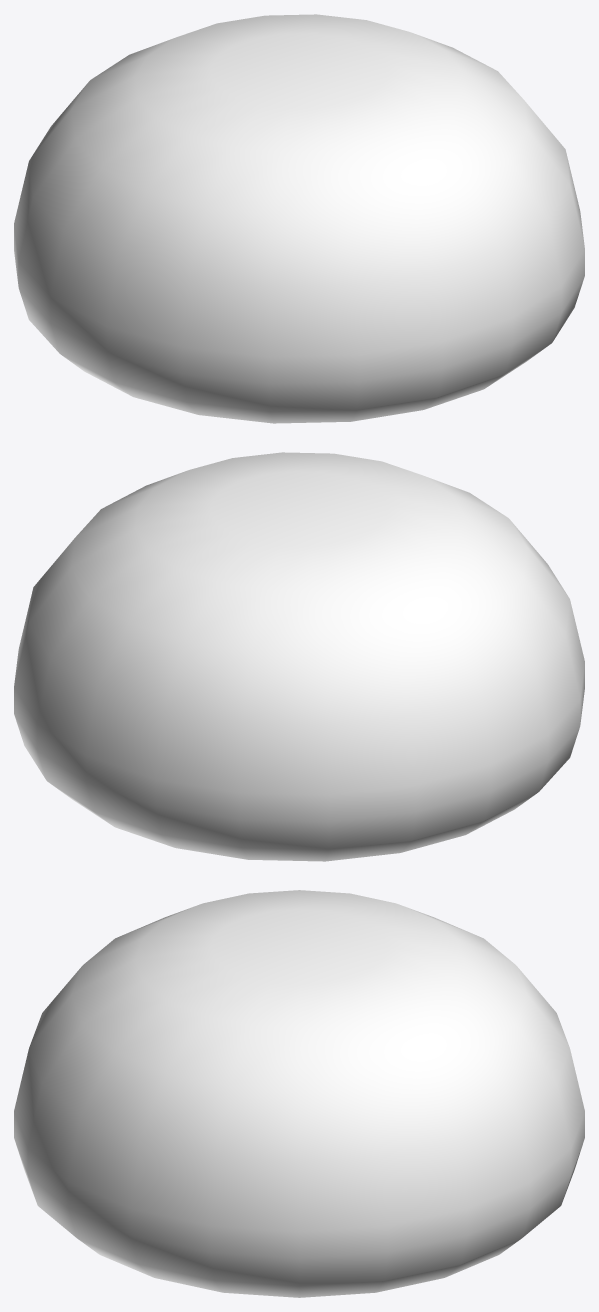
The model's file is RubberDot.fbx.
3 views of the same model, one above another, from view 1: azimuth 30°, elevation 25°; view 2: azimuth 150°, elevation 25°; view 3: azimuth 270°, elevation 25° (orthographic).
Visible parts, largest first — view 1: Cube.001; view 2: Cube.001; view 3: Cube.001.
Part boxes in pixels (<box>): Cube.001: <box>14,14,584,423</box>; Cube.001: <box>14,452,584,861</box>; Cube.001: <box>14,890,584,1297</box>.
Size of the model in its own units: 593 by 328 by 593.
